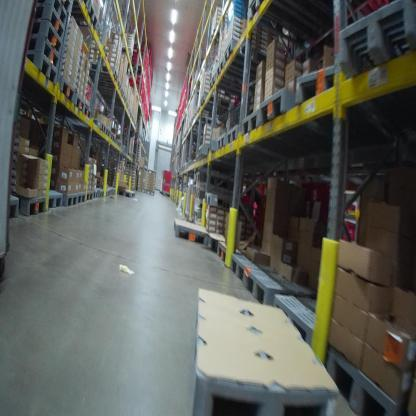pallets: (201, 56, 339, 163), (224, 247, 328, 350), (22, 2, 95, 116), (323, 345, 409, 414), (12, 181, 121, 219), (172, 217, 226, 258), (92, 119, 125, 149)
